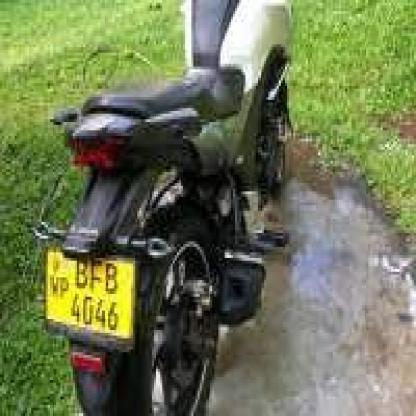bike back: (38, 1, 293, 416)
number plate: (47, 255, 127, 328)
